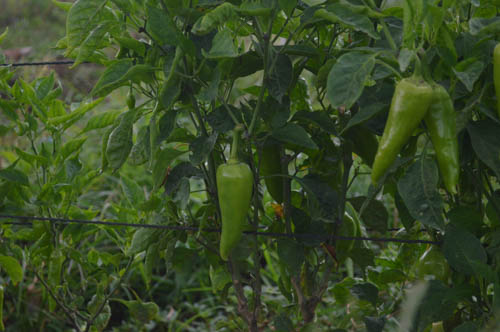ChiliPepper: (375, 81, 428, 183), (214, 163, 255, 260), (426, 85, 463, 190)
